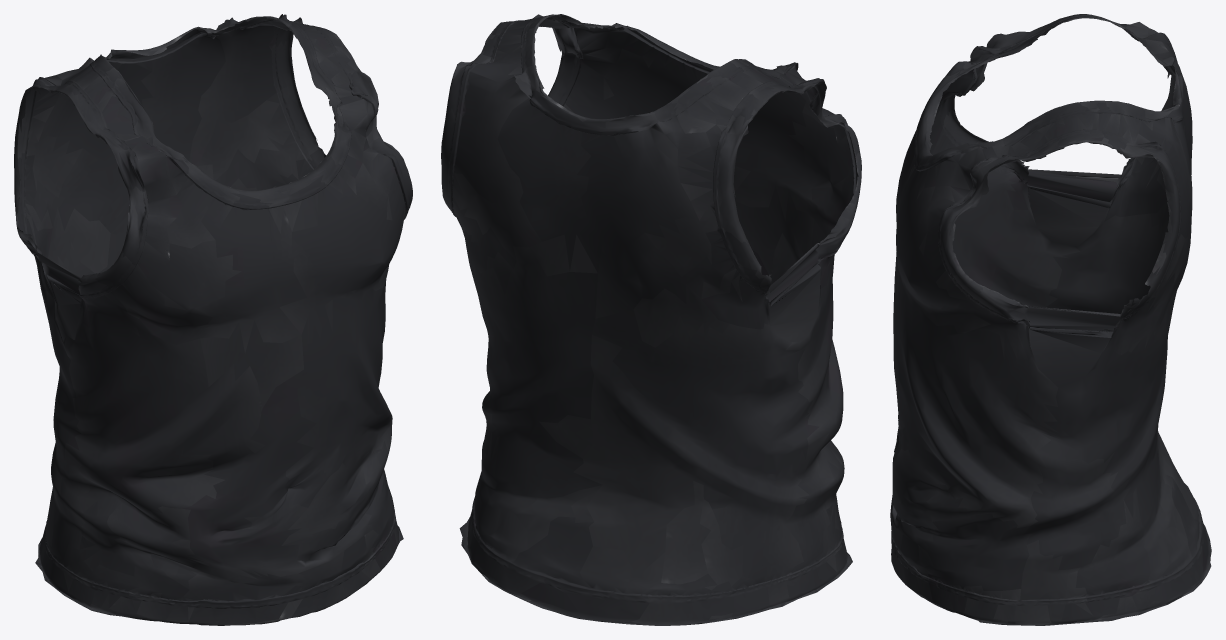
The model's file is top_tank.glb.
3 views of the same model, side by side, from view 1: azimuth 30°, elevation 25°; view 2: azimuth 150°, elevation 25°; view 3: azimuth 270°, elevation 25° (orthographic). The views are drawn at different scales.
Parts seen in each view (by area): view 1: tank; view 2: tank; view 3: tank.
Boxes of the visible parts, x1,y1,x2,y2 form: tank: [14, 14, 412, 625]; tank: [441, 14, 861, 625]; tank: [890, 14, 1211, 625].
Bounding box in the file's own units: 0.3377 × 0.4943 × 0.2884.
1 material, 1 textured.
